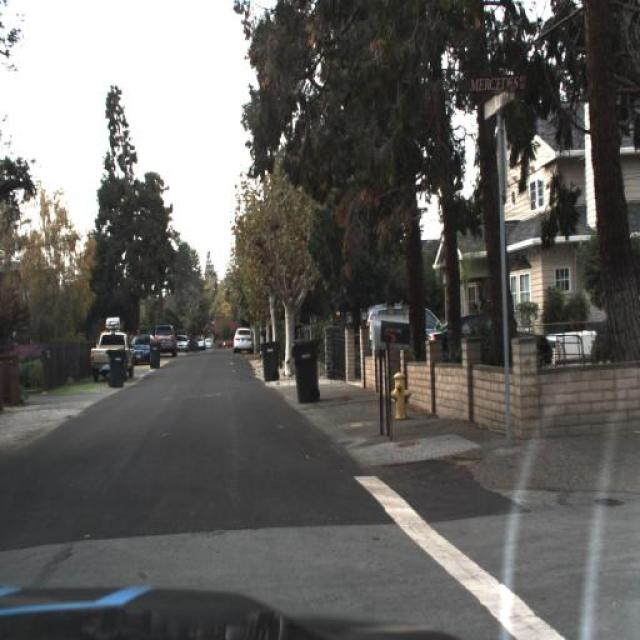car: (406, 299, 560, 380), (352, 288, 448, 357), (90, 329, 132, 380), (128, 326, 160, 374), (231, 318, 257, 357), (154, 323, 178, 358), (172, 330, 190, 355), (192, 334, 206, 351), (202, 335, 214, 353)
